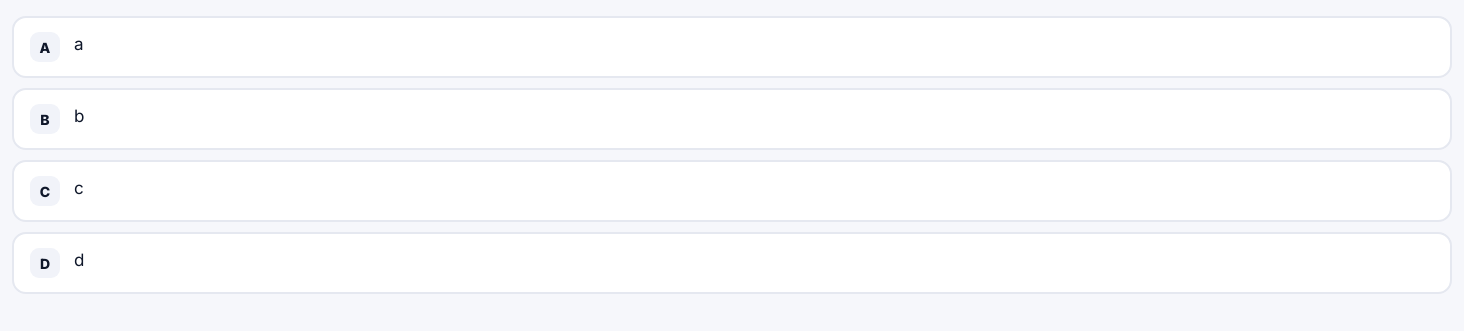
Test case: AnswerWidget › multi-select sorts letters and toggles
Click the text "d". click: click(79, 260)
box: [74,250,84,270]
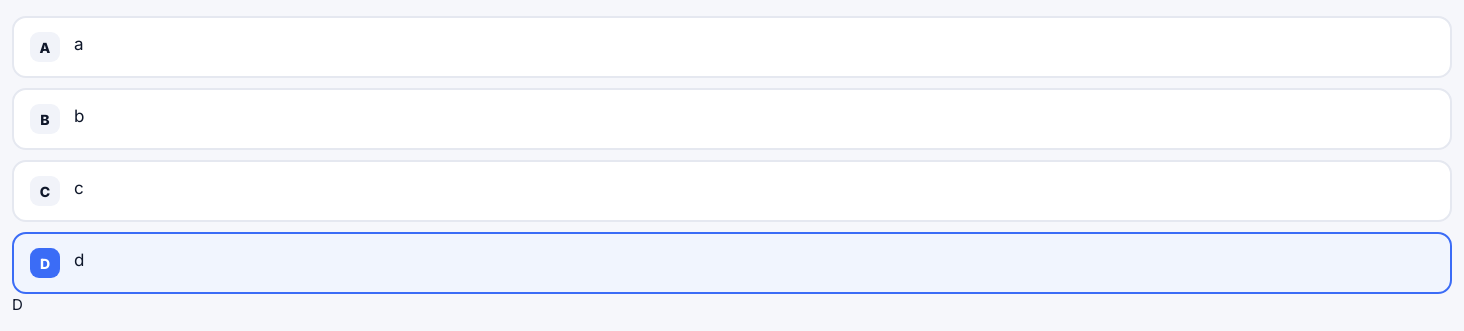
Click the text "a". click: click(79, 44)
box: [74,34,84,54]
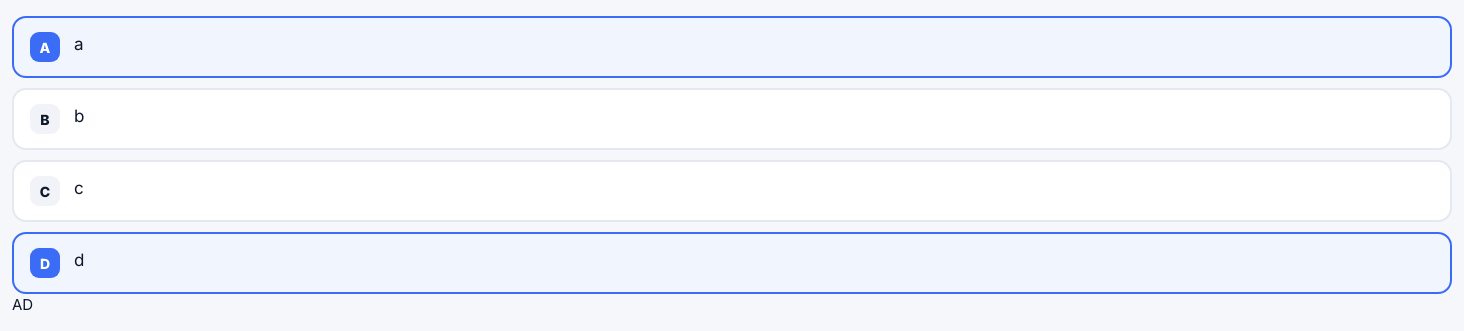
Click the text "b". click: click(79, 116)
box: [74,106,84,126]
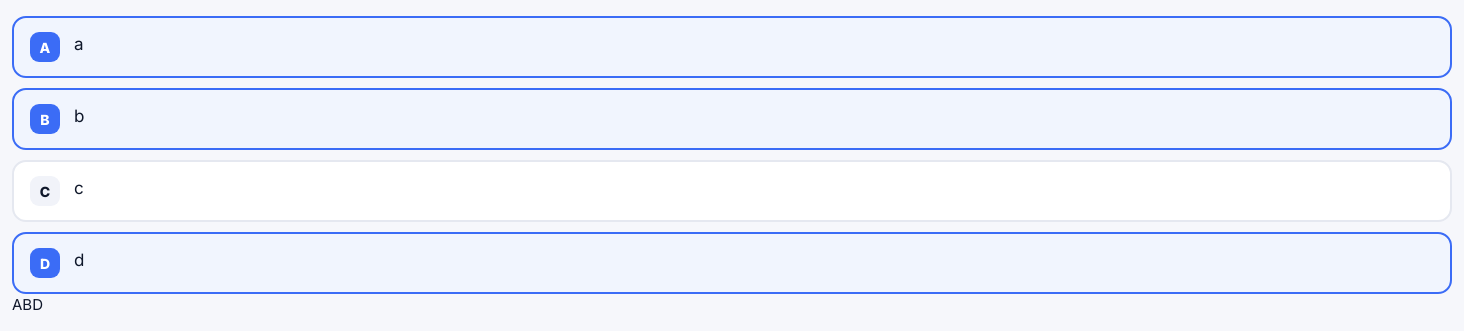
Click the text "b". click: click(79, 116)
box: [74,106,84,126]
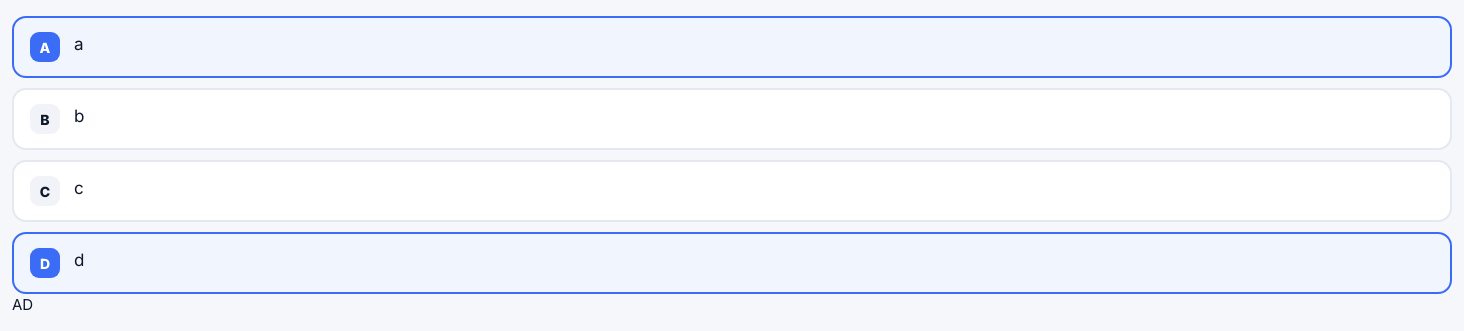
Expected: the text with test id "v" reads "AD", [12,295,33,314]
